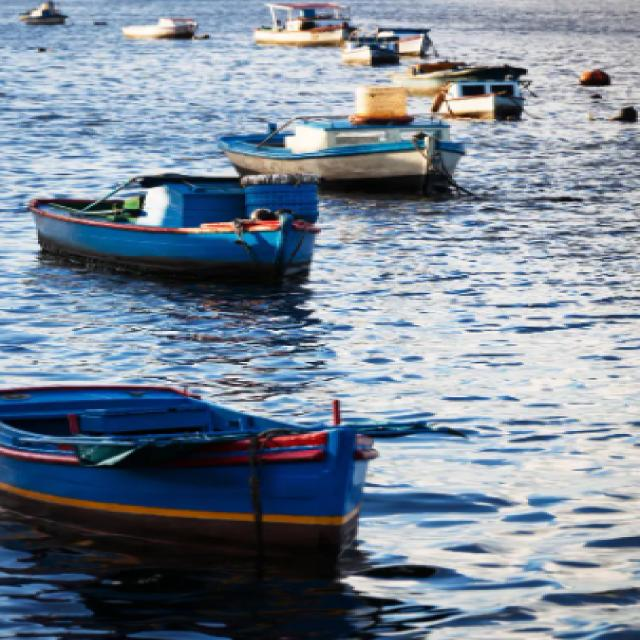fishing boat: (0, 368, 377, 537), (22, 165, 321, 274), (218, 80, 444, 184), (249, 2, 351, 44), (400, 61, 523, 92), (440, 80, 536, 116), (341, 21, 425, 62), (121, 15, 201, 41), (17, 1, 68, 23)
